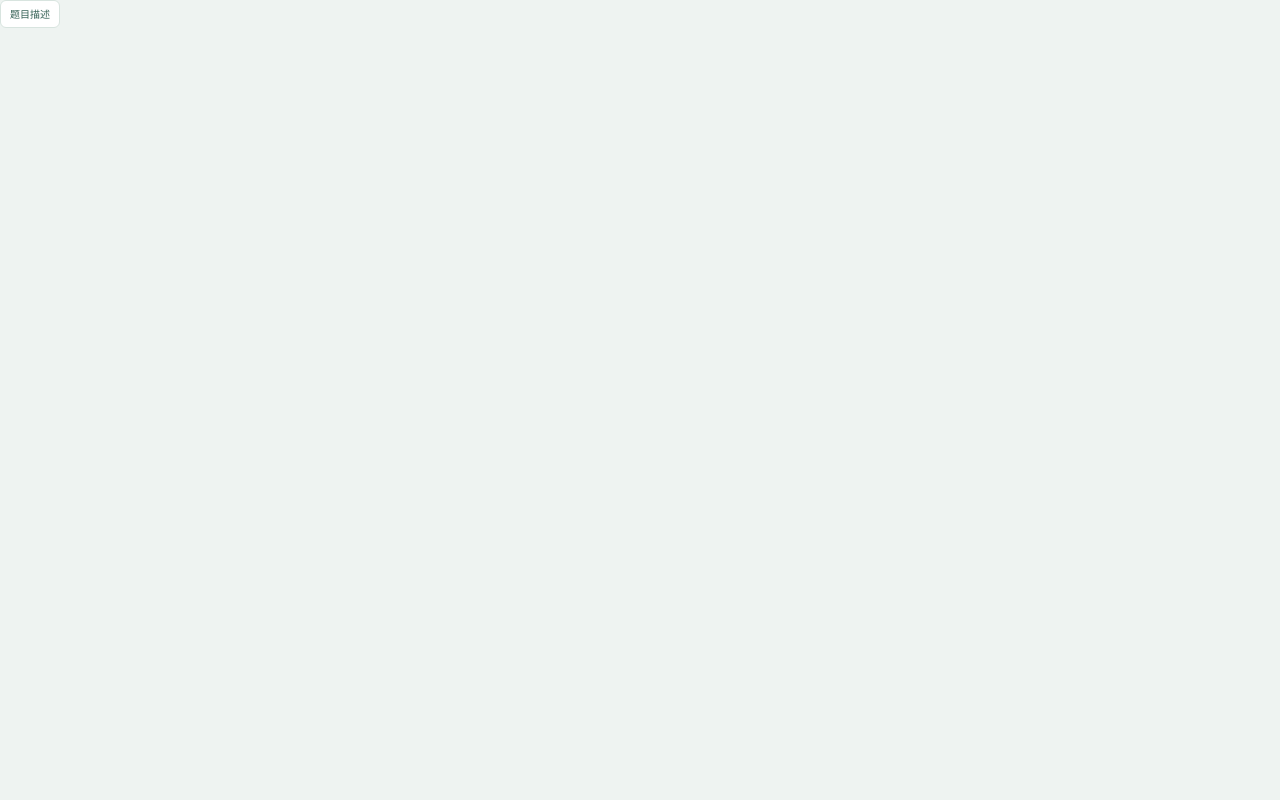
题目描述弹窗 › 单独打开题目描述并显示题意、示例和约束
This screenshot has width=1280, height=800.
Click the button "题目描述" at (30, 14), box [0,0,60,28]
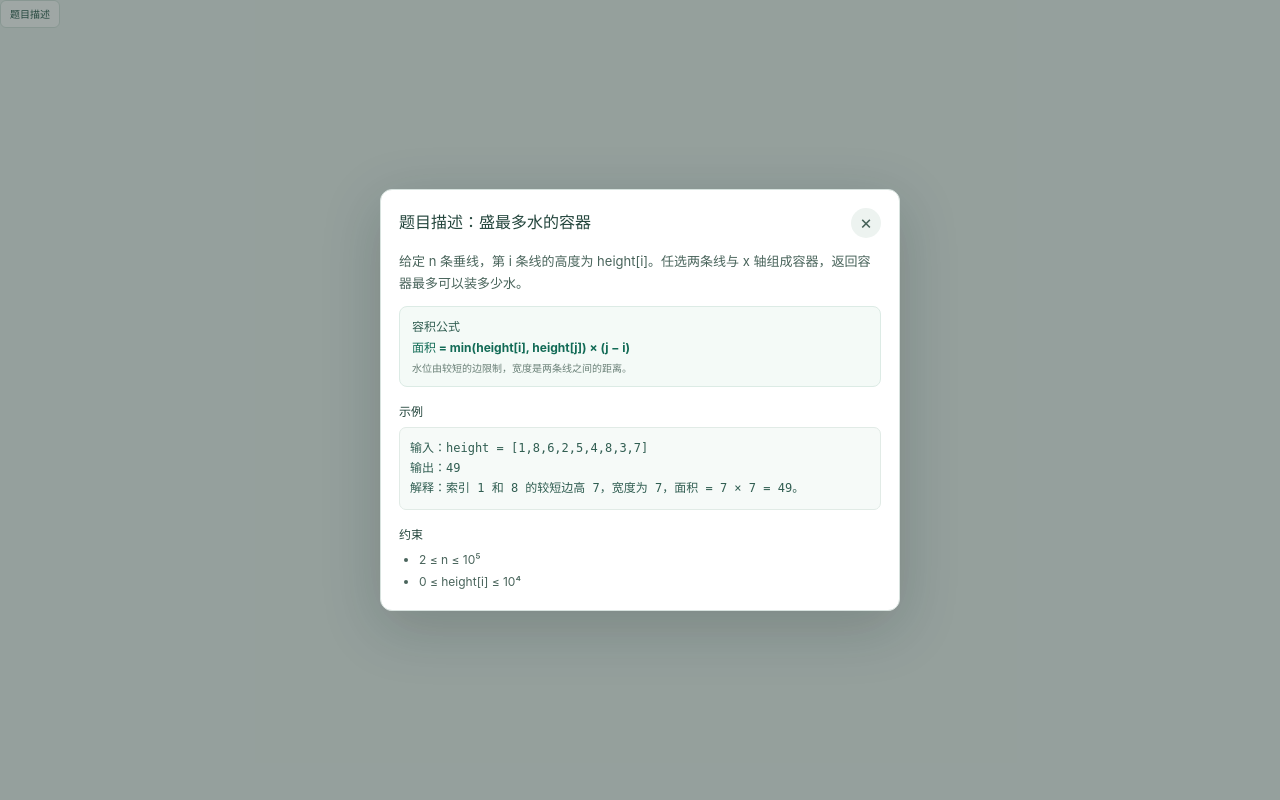
Expected: the dialog "题目描述：盛最多水的容器" is shown
Expected: the text "给定 n 条垂线，第 i 条线的高度为 height[i]。任选两条线与 x 轴组成容器，返回容器最多可以装多少水。" is shown, [399,250,881,294]
Expected: the text "输出：49" is shown, [410,461,460,475]
Press Escape in the dialog, box [380,189,900,611]
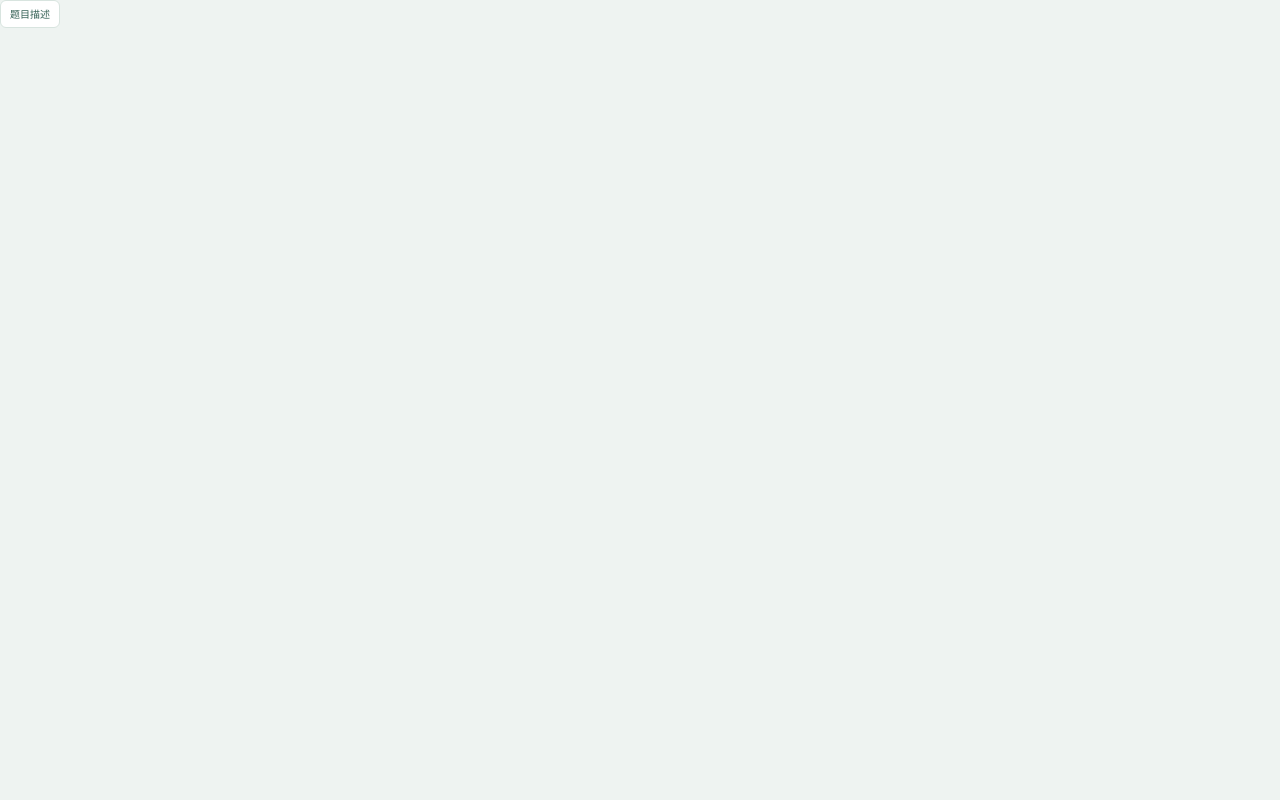
Expected: the dialog is gone
